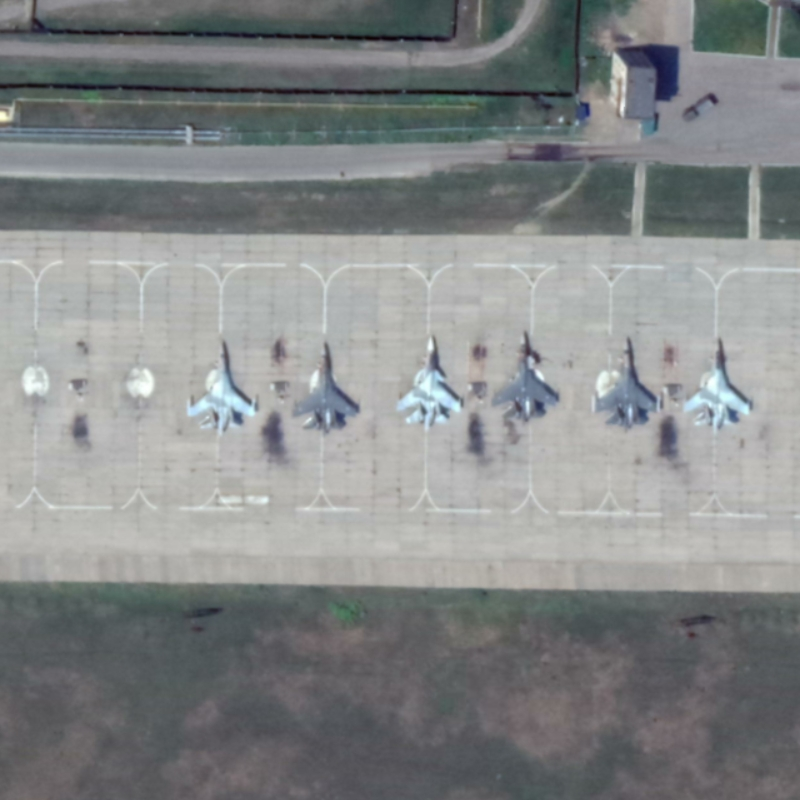A1: (184, 336, 259, 437), (589, 333, 665, 432), (488, 329, 562, 425), (290, 339, 362, 437), (681, 335, 753, 433)
A19: (394, 333, 465, 434)
